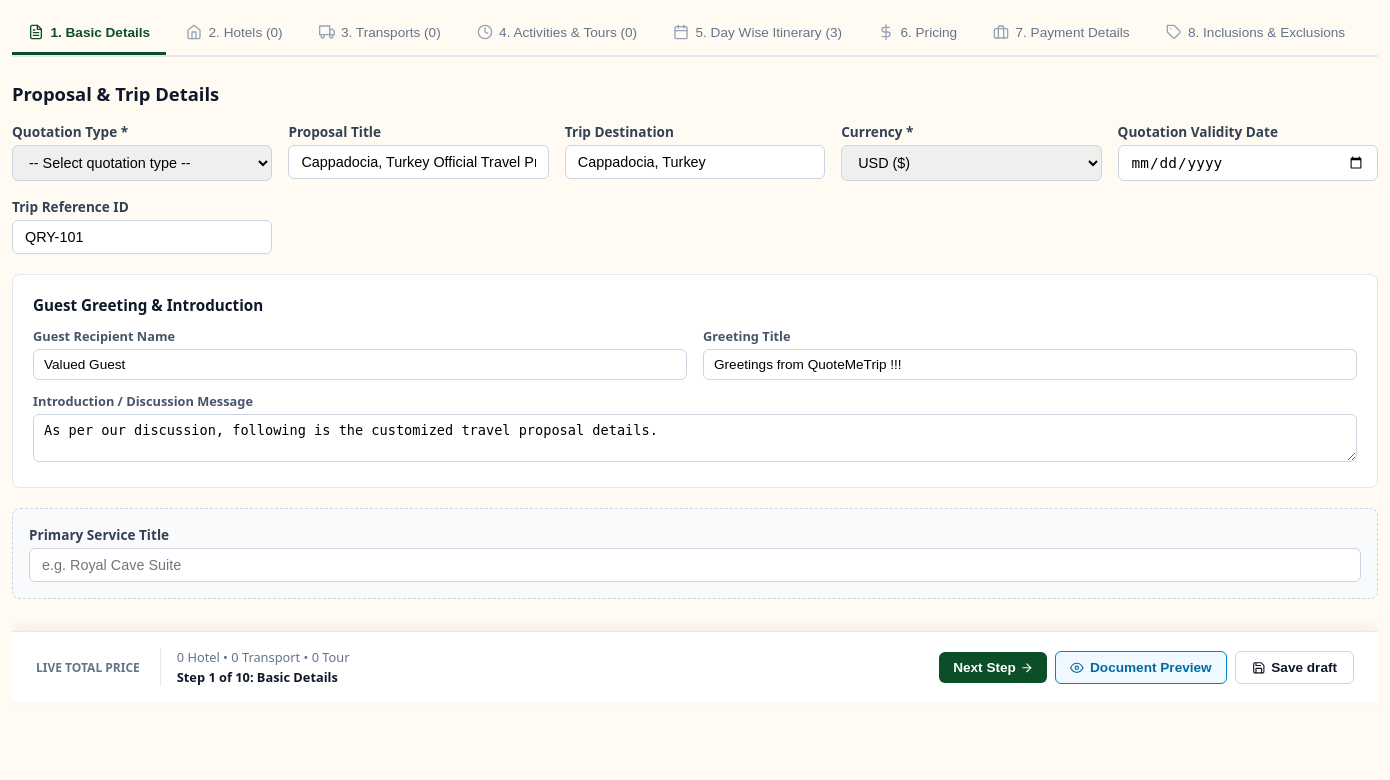
Scenario: QuotationBuilder Component › navigates through steps and switches active workspace
Expected: the heading "Proposal & Trip Details" is shown, [12,81,219,106]
Click Hotels tab
Click the button "2. Hotels (0)".
click(234, 34)  # box [170,12,298,55]
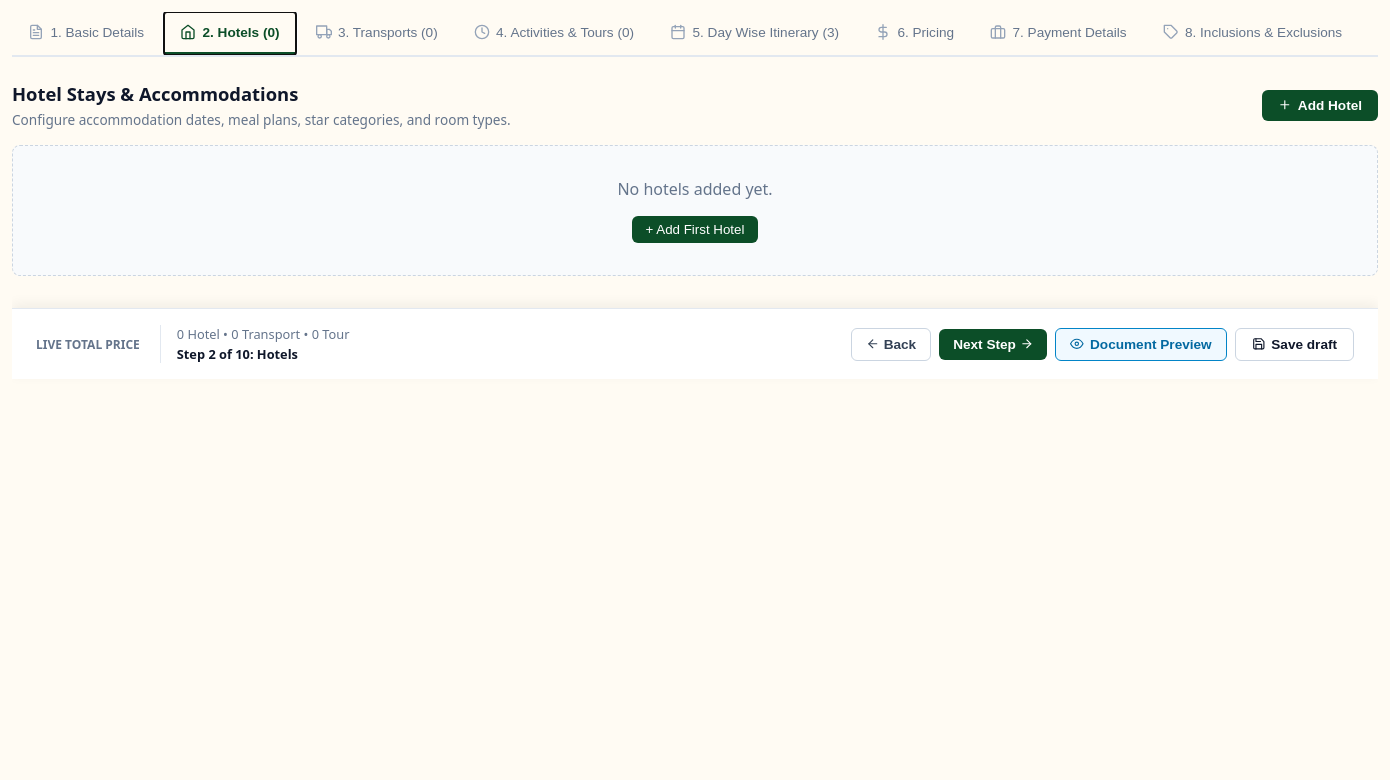
Expected: the heading "Hotel Stays & Accommodations" is shown, [12,81,298,106]
Click Transports tab
Click the button "3. Transports (0)".
click(377, 34)  # box [300,12,454,55]
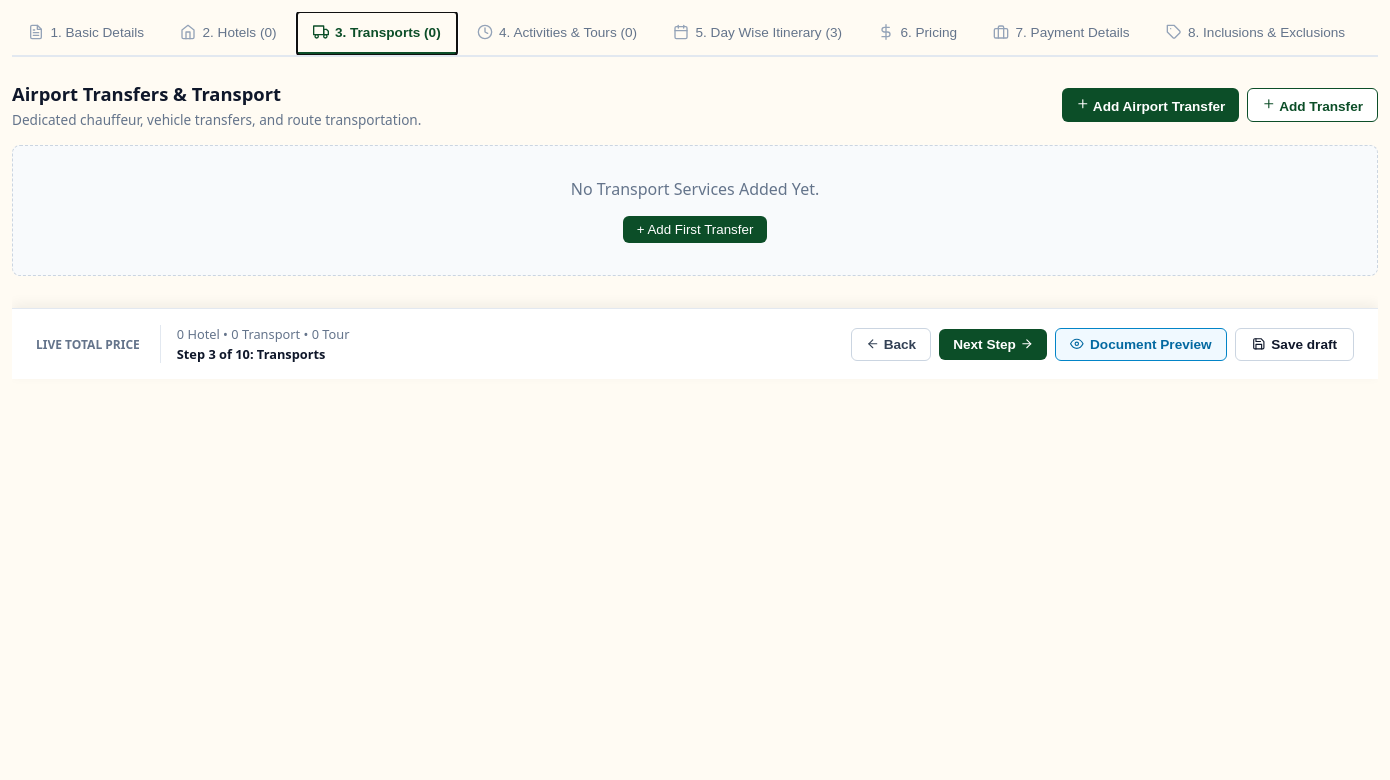
Expected: the heading "Airport Transfers & Transport" is shown, [12,81,281,106]
Click Activities tab
Click the button "4. Activities & Tours (0)".
click(557, 34)  # box [461,12,653,55]
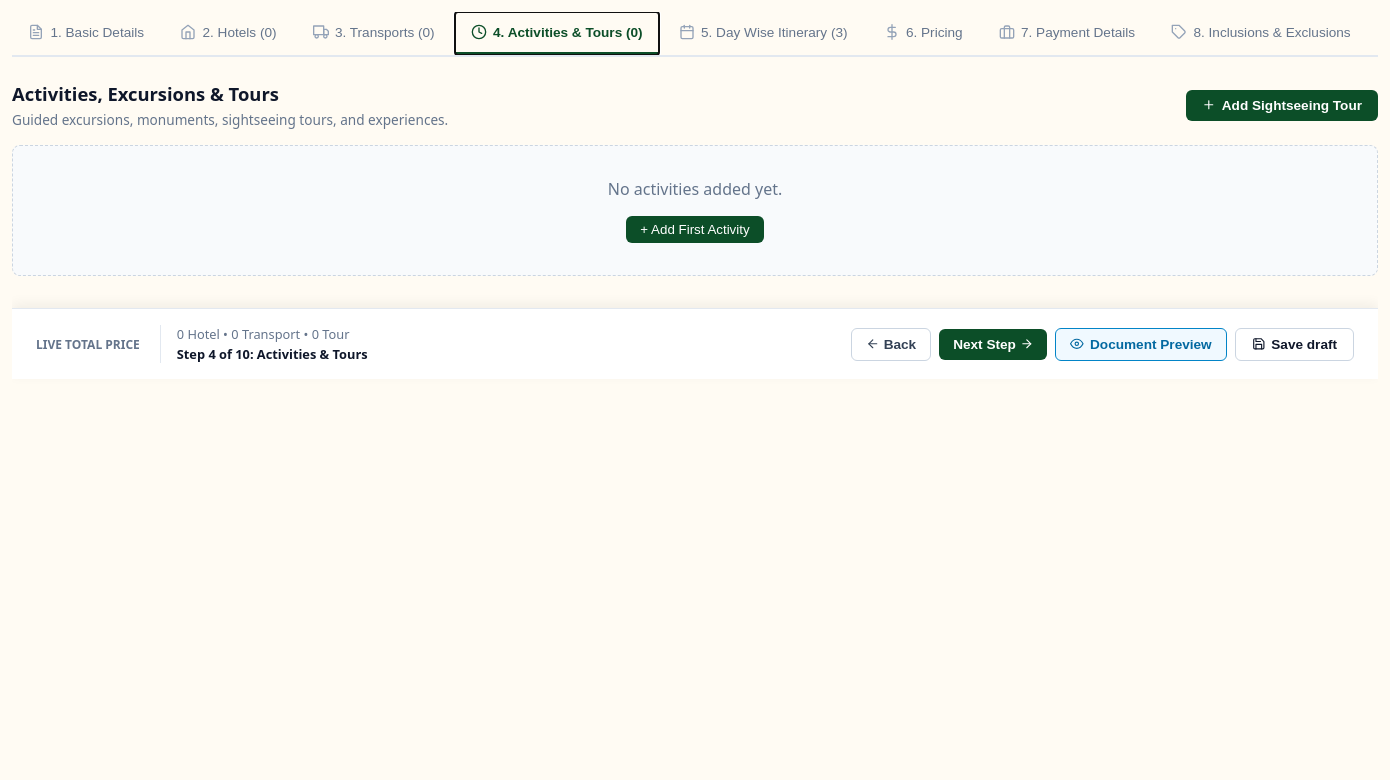
Expected: the heading "Activities, Excursions & Tours" is shown, [12,81,279,106]
